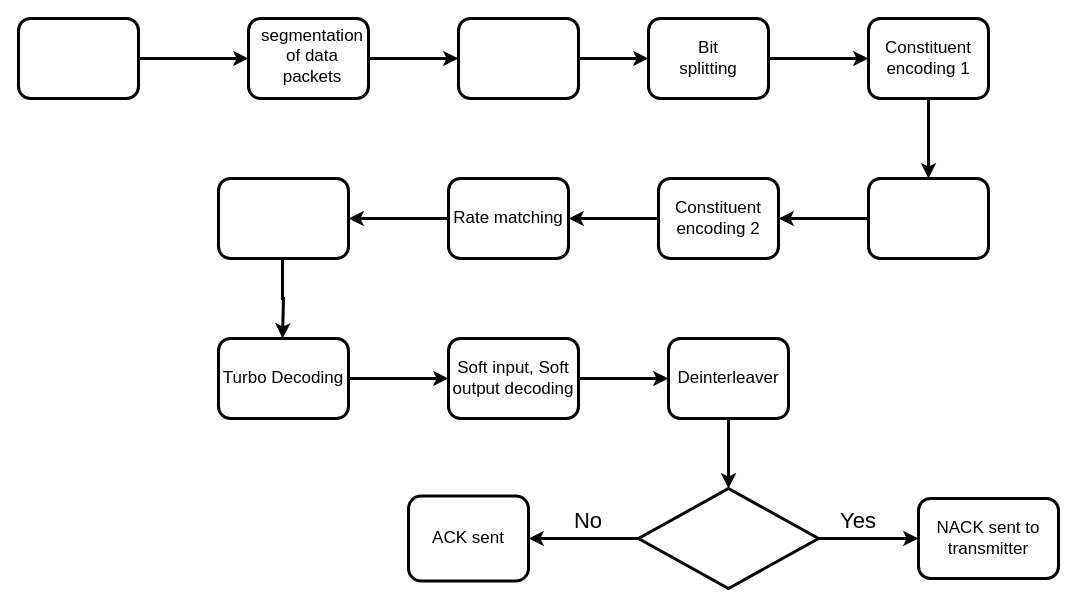
The diagram is 1077 pixels wide and 607 high, and some of its shapes have lost their labels. The centre of each missing label's shape, as x and y in pixels:
"error detected via CRC?" belongs at (728,538).
"Inter leaving" belongs at (928,218).
"Modulation & Transmission" belongs at (283,218).
"Start" belongs at (78,58).
"Turbo Encoding" belongs at (518,58).
